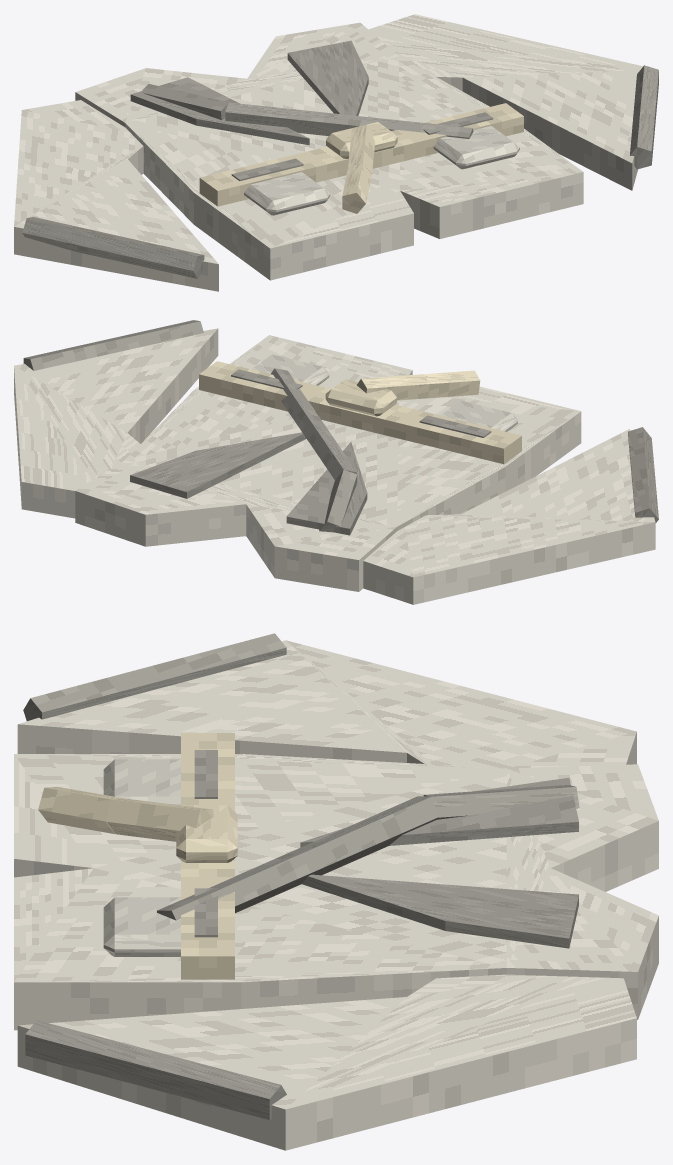
File: karate_gi.glb
The picture shows the model from 3 angles, top to bottom: view 1: azimuth 30°, elevation 25°; view 2: azimuth 150°, elevation 25°; view 3: azimuth 270°, elevation 25°; orthographic projection. The views are drawn at different scales.
Parts seen in each view (by area): view 1: block_coat body, block_sleeve (×2), block_lapel (×2), block_cuff 0 (×2), block_tied sash, block_patch pocket (×2), block_crossed lapel 1, block_crossed lapel 0, block_sash knot, block_sash ends 1, block_pocket welt (×2), block_sash ends 0; view 2: block_coat body, block_sleeve (×2), block_tied sash, block_lapel (×2), block_cuff 0 (×2), block_crossed lapel 1, block_patch pocket (×2), block_sash knot, block_sash ends 0, block_sash ends 1, block_crossed lapel 0, block_pocket welt (×2); view 3: block_coat body, block_sleeve (×2), block_lapel (×2), block_cuff 0 (×2), block_crossed lapel 1, block_tied sash, block_patch pocket (×2), block_sash ends 0, block_crossed lapel 0, block_sash knot, block_sash ends 1, block_pocket welt (×2).
Part boxes in pixels (x1,y1,x2,y2): block_coat body: (75, 22, 583, 280); block_sleeve (×2): (14, 14, 657, 291); block_lapel (×2): (130, 40, 368, 145); block_cuff 0 (×2): (22, 65, 658, 278); block_tied sash: (199, 103, 523, 206); block_patch pocket (×2): (244, 126, 519, 215); block_crossed lapel 1: (225, 102, 473, 138); block_crossed lapel 0: (141, 84, 228, 119); block_sash knot: (326, 122, 397, 158); block_sash ends 1: (342, 163, 371, 213); block_pocket welt (×2): (231, 112, 493, 181); block_sash ends 0: (348, 124, 374, 173); block_coat body: (75, 335, 581, 591); block_sleeve (×2): (14, 328, 655, 604); block_tied sash: (199, 361, 521, 464); block_lapel (×2): (130, 432, 367, 535); block_cuff 0 (×2): (23, 320, 658, 522); block_crossed lapel 1: (271, 368, 356, 480); block_patch pocket (×2): (251, 354, 517, 431); block_sash knot: (325, 379, 396, 416); block_sash ends 0: (357, 374, 429, 400); block_sash ends 1: (424, 370, 480, 398); block_crossed lapel 0: (319, 470, 357, 532); block_pocket welt (×2): (231, 369, 491, 437); block_coat body: (14, 754, 658, 1030); block_sleeve (×2): (17, 640, 636, 1150); block_lapel (×2): (300, 777, 578, 948); block_cuff 0 (×2): (23, 633, 286, 1120); block_crossed lapel 1: (157, 796, 438, 920); block_tied sash: (181, 733, 234, 979); block_patch pocket (×2): (103, 759, 180, 956); block_sash ends 0: (106, 798, 213, 841); block_crossed lapel 0: (423, 785, 579, 819); block_sash knot: (176, 805, 237, 862); block_sash ends 1: (38, 786, 123, 833); block_pocket welt (×2): (194, 750, 217, 937).
Bounding box in the file's own units: 0.5437 × 0.0578 × 0.3158.
1 material, 1 textured.
